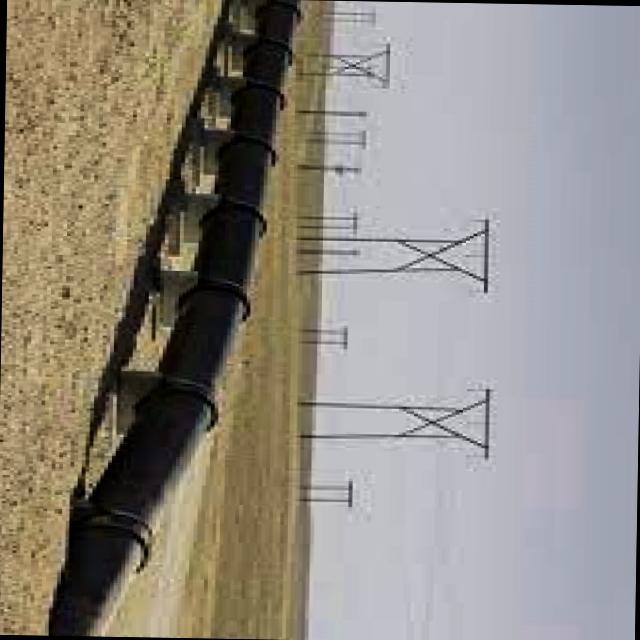gas: (49, 0, 298, 636)
